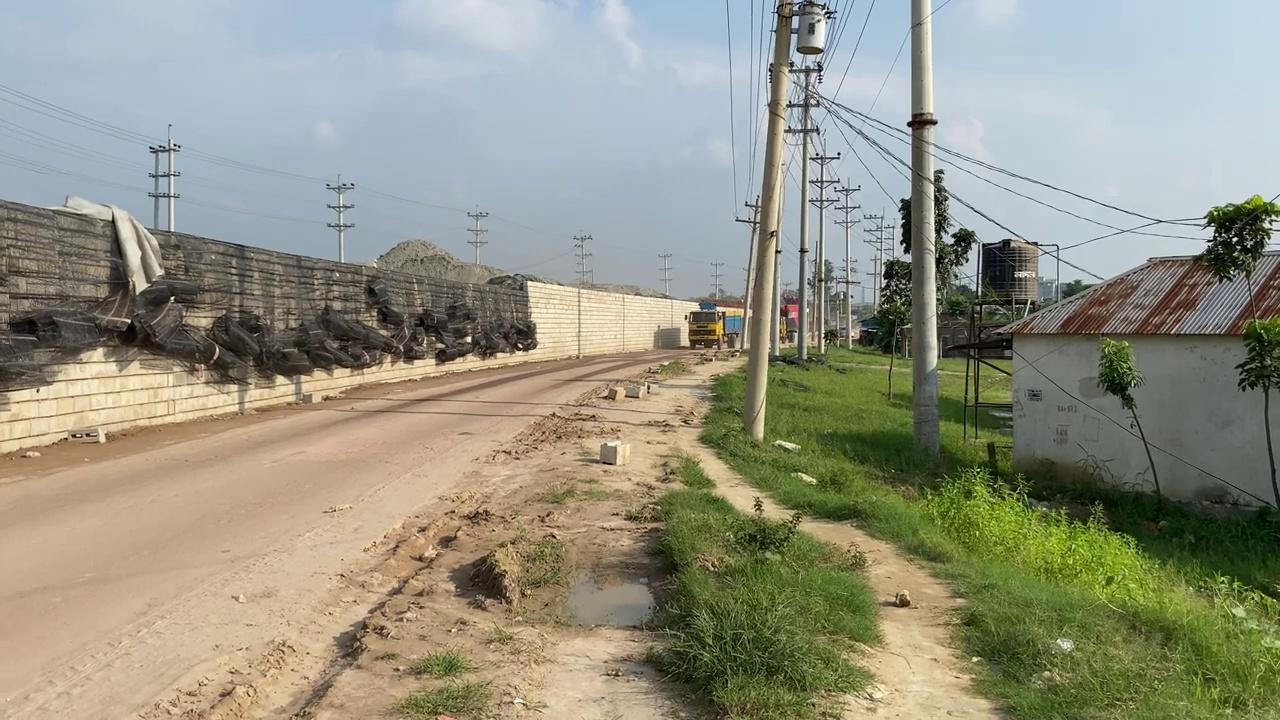Dog: (892, 589, 911, 607)
Obstacle: (598, 439, 629, 465), (606, 385, 625, 401)
Pole: (741, 0, 794, 441), (908, 0, 940, 460), (795, 68, 812, 361)
Pothole: (557, 563, 659, 630)
Potted-plant: (1, 343, 734, 718)
Rickshaw: (663, 369, 1004, 718)
Tree: (684, 301, 744, 349), (779, 291, 800, 343), (722, 308, 744, 348)
Upstairs: (0, 196, 716, 453)
